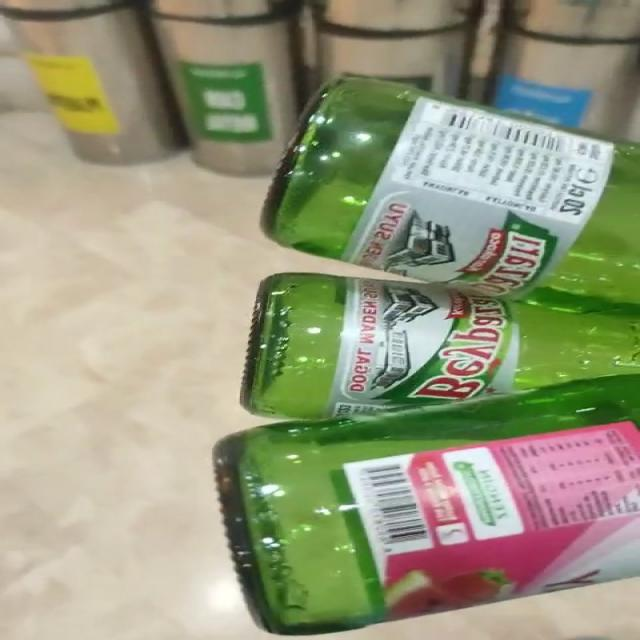glass: (213, 77, 639, 636)
